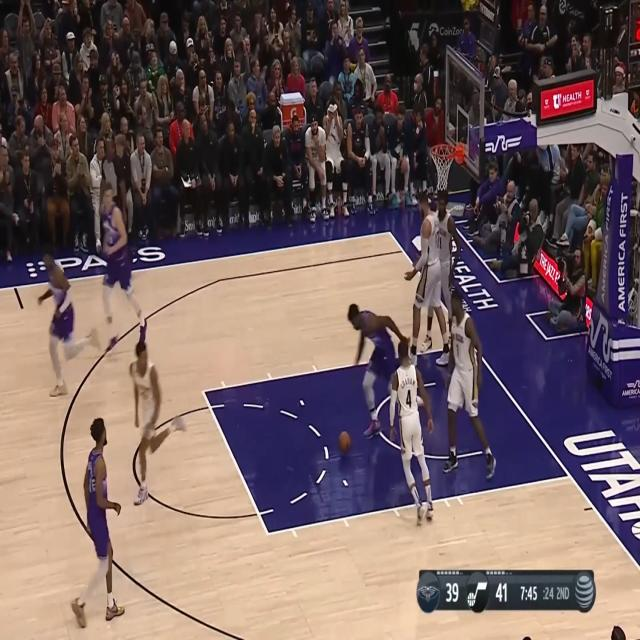Ball: (338, 430, 352, 454)
Clock: (629, 0, 640, 44), (484, 0, 496, 8)
Hoop: (429, 143, 458, 192)
Overlay: (416, 568, 597, 614)
Player: (72, 416, 126, 629), (442, 286, 497, 480), (37, 244, 103, 399), (131, 340, 187, 503), (348, 304, 413, 444), (390, 334, 436, 527), (98, 185, 148, 346), (404, 192, 448, 370), (423, 192, 459, 352)
Ref: (99, 139, 127, 274)
Scoreboard: (416, 570, 572, 614)
